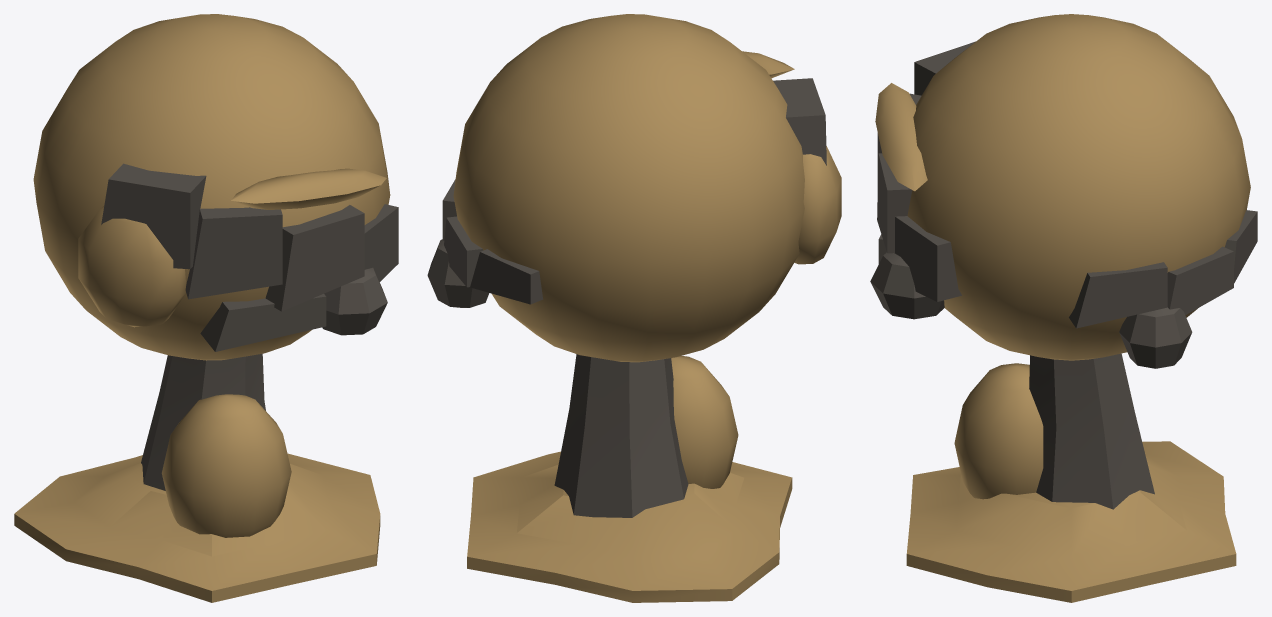
The model's file is nyc-the-sphere.glb.
3 views of the same model, side by side, from view 1: azimuth 30°, elevation 25°; view 2: azimuth 150°, elevation 25°; view 3: azimuth 270°, elevation 25° (orthographic).
Parts seen in each view (by area): view 1: The Sphere; view 2: The Sphere; view 3: The Sphere.
Boxes of the visible parts, x1,y1,x2,y2 form: The Sphere: (14, 14, 398, 602); The Sphere: (427, 14, 841, 602); The Sphere: (870, 14, 1257, 602).
Size of the model in its own units: 5.15 by 7.48 by 5.29.
